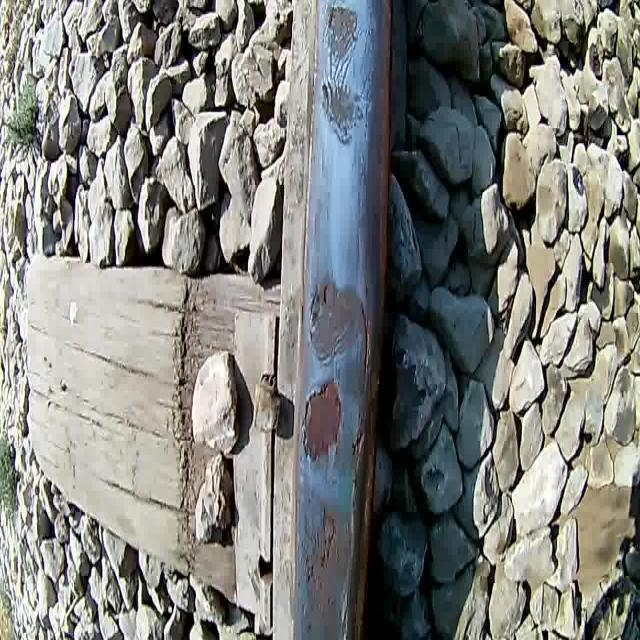Cracks: (323, 34, 361, 100), (357, 293, 372, 384), (317, 510, 337, 566)
Spallings: (298, 496, 355, 640), (297, 374, 344, 469), (308, 277, 331, 343), (348, 404, 368, 464)
Squats: (304, 273, 368, 368), (317, 75, 369, 155), (319, 0, 364, 66)
